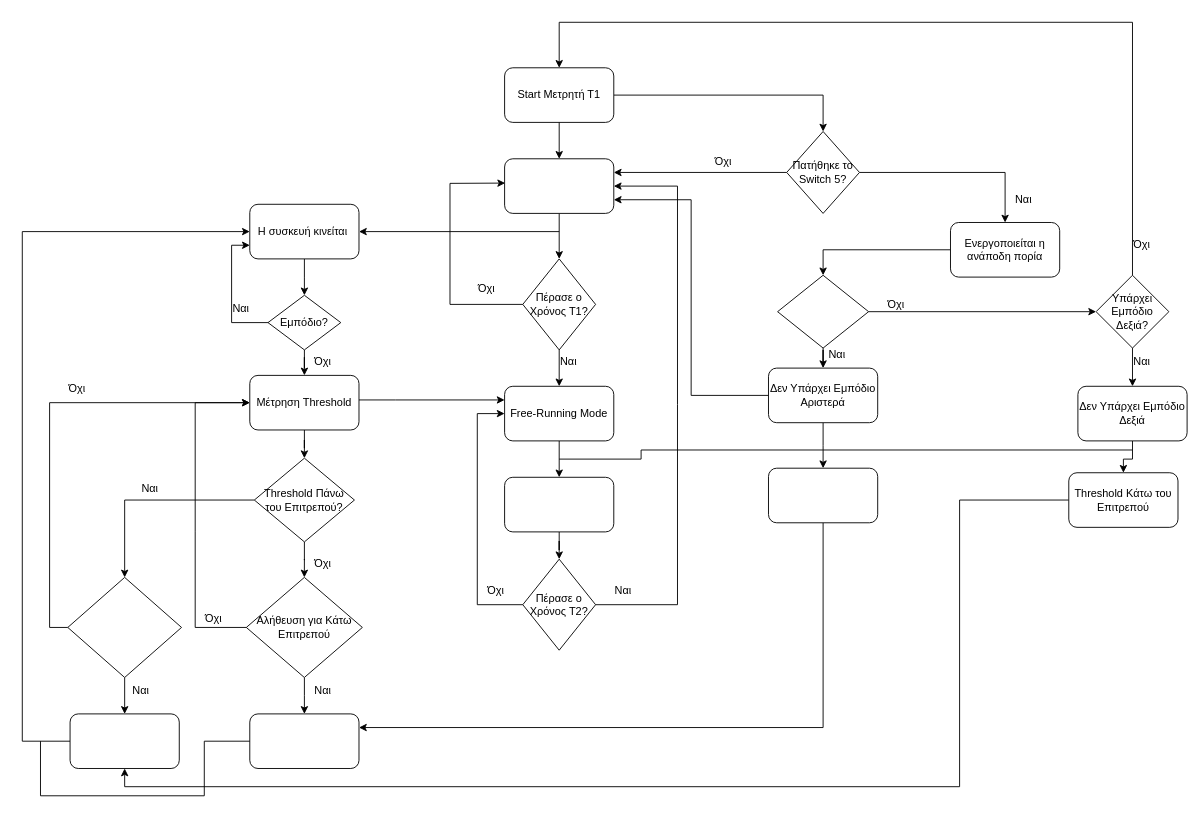
The diagram is 1203 pixels wide and 813 high, and some of its shapes have lost their labels. Each missing label, with the box of its shape:
Single Conversion: (504, 158, 614, 213)
Start Μετρητή Τ2: (504, 476, 614, 532)
Threshold Πάνω του Επιτρεπού: (768, 467, 878, 523)
Αλήθευση για Πάνω Επιτρεπού: (67, 576, 182, 677)
Στρίψε Αριστερά: (249, 713, 359, 768)
Στρίψε Δεξιά: (69, 713, 179, 768)
Υπάρχει Εμπόδιο Αριστερά?: (777, 274, 869, 348)
